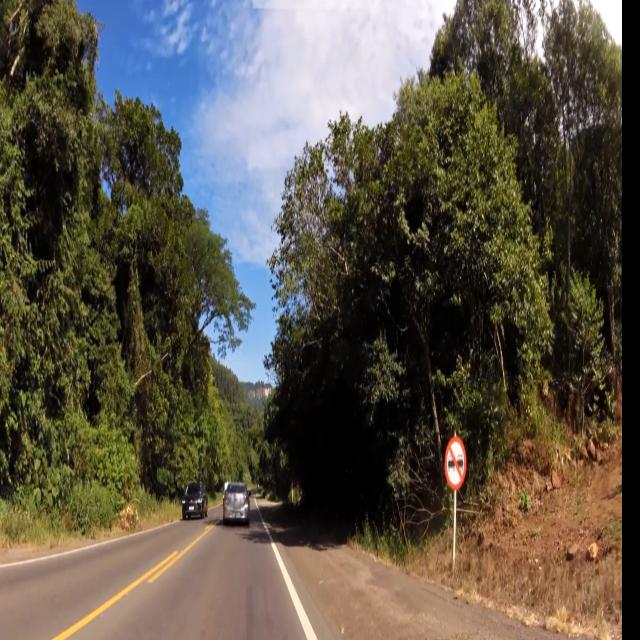R-7: (445, 437, 466, 497)
